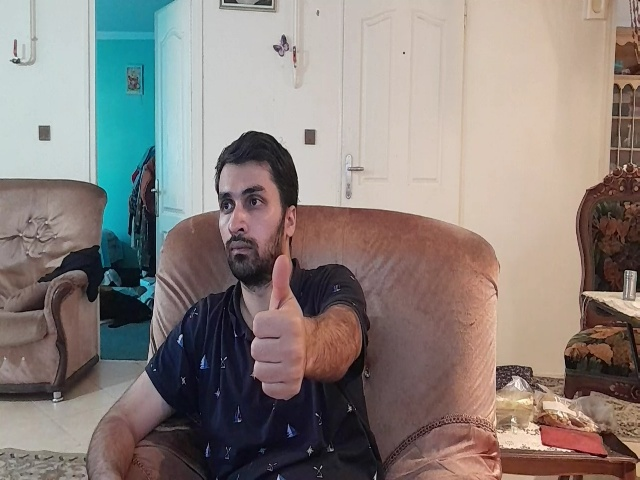ThumbsUp: (249, 254, 308, 401)
